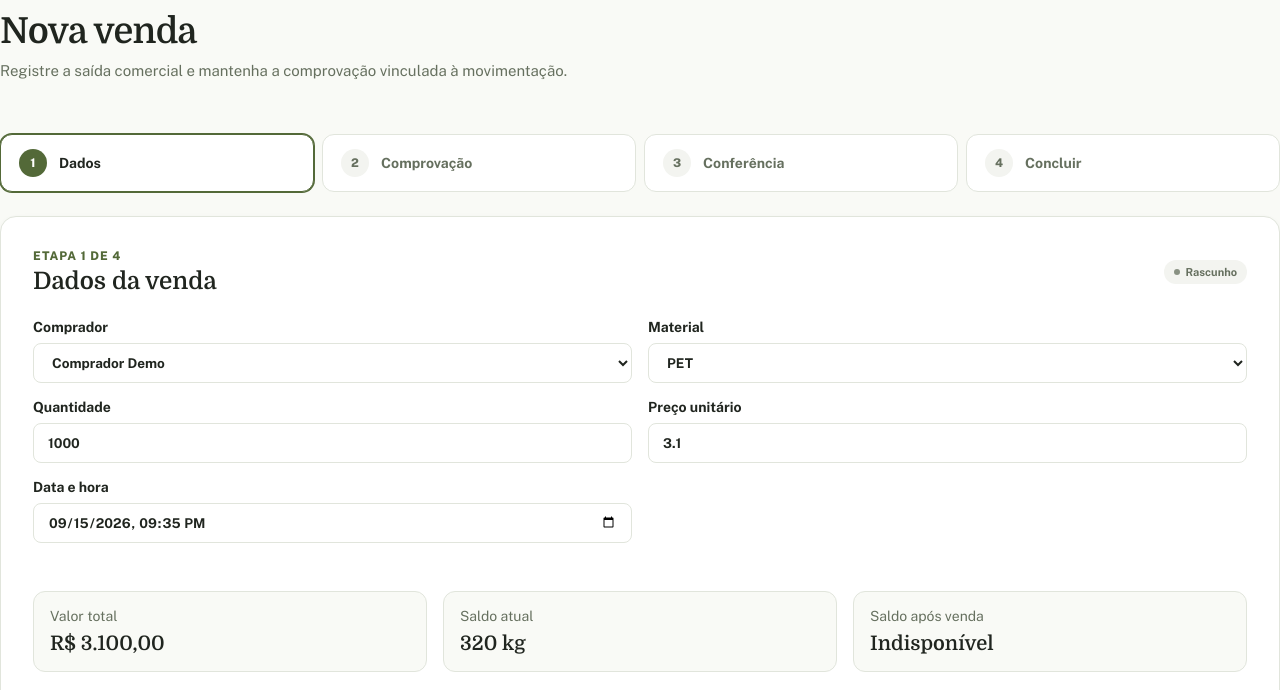
SaleFlowPage › shows R$ 1.240 and Indisponível and disables continue for 320/400
The width and height of the screenshot is (1280, 690).
Expected: the heading "Dados da venda" is shown, [33,267,216,295]
Replace the text in the number field labelled "Quantidade" with "400": {"x": 332, "y": 443} [33,423,632,463]
(page scrolled)
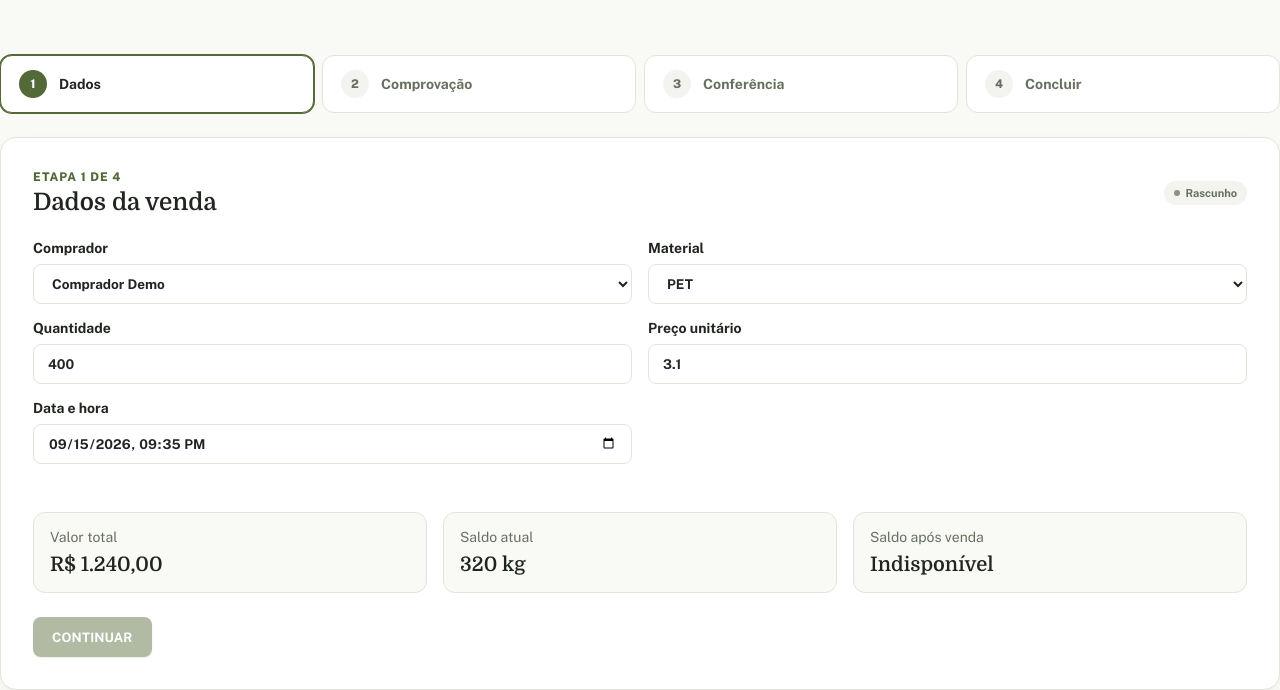
Expected: the text "Indisponível" is shown, [870,553,994,576]
Expected: the text "R$ 1.240,00" is shown, [50,553,162,576]
